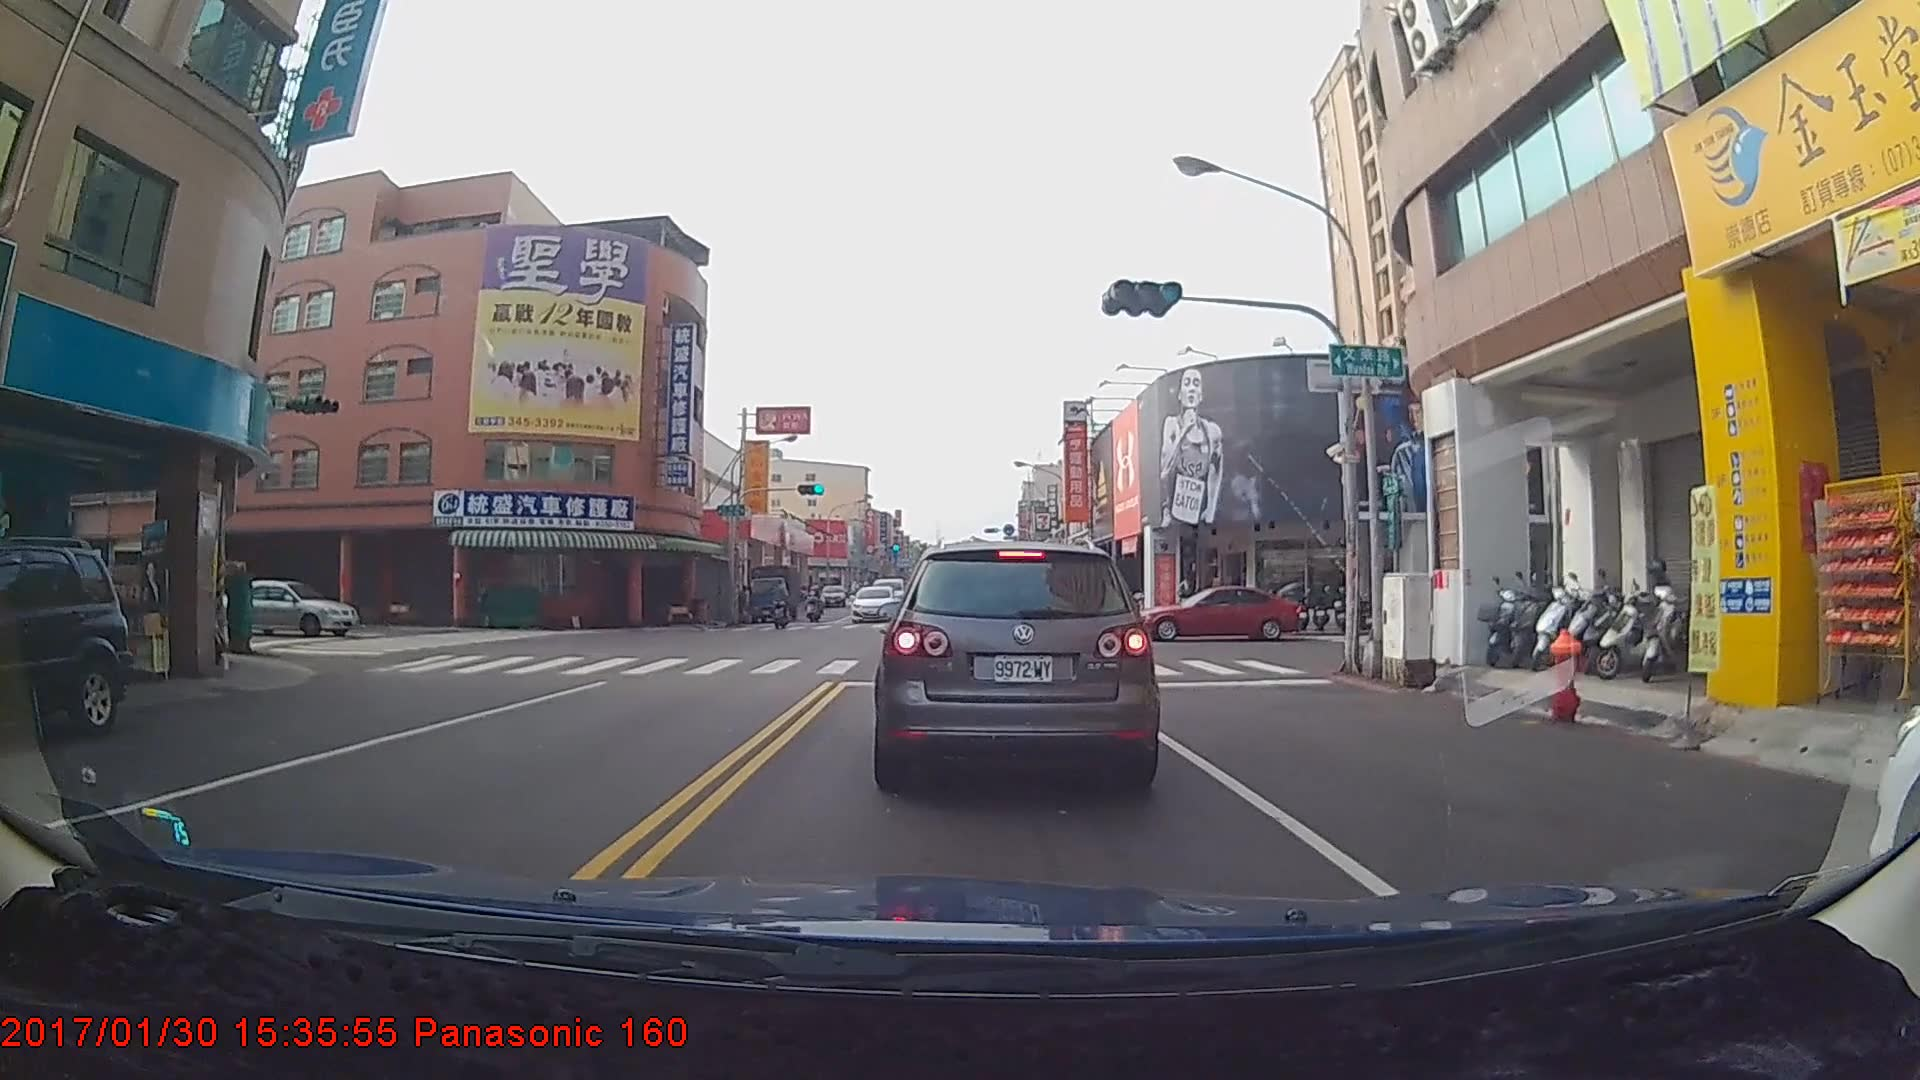rider: (764, 588, 797, 635), (804, 587, 830, 629)
vehicle: (878, 533, 1156, 790), (0, 543, 131, 748), (1136, 585, 1306, 642), (207, 573, 359, 633), (745, 563, 799, 621), (849, 584, 897, 622)
